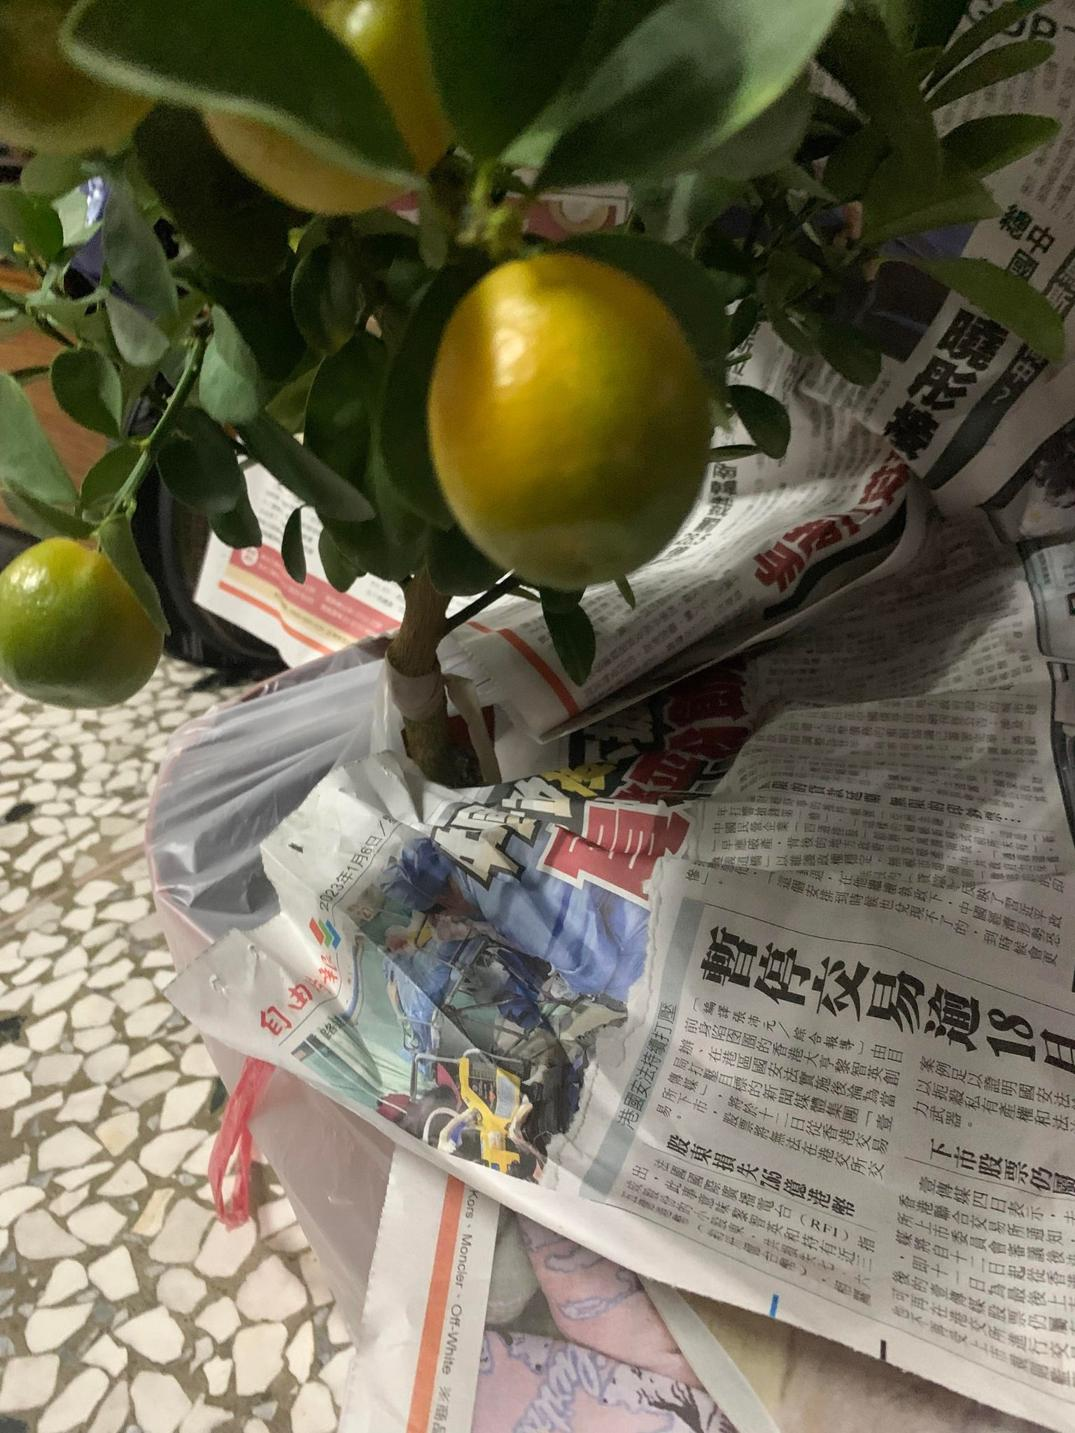Kumquat: (432, 253, 717, 588)
